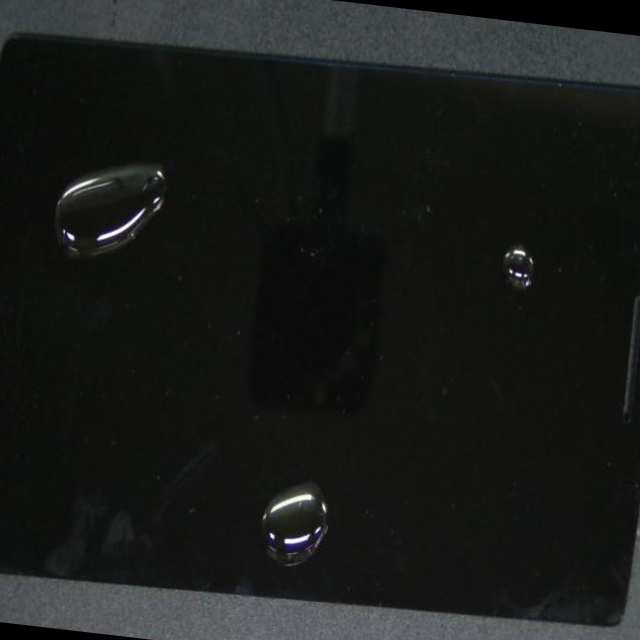oil: (123, 265, 567, 640), (245, 114, 640, 376), (0, 149, 227, 387)
